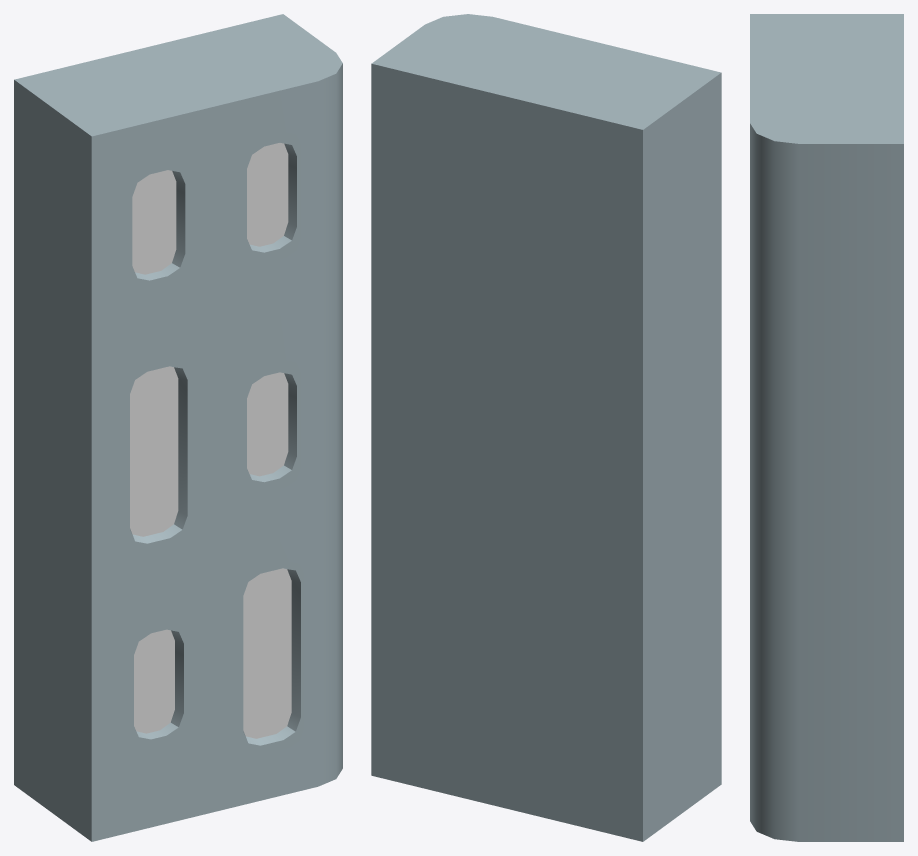
The model's file is BackRight_SmallLight.fbx.
3 views of the same model, side by side, from view 1: azimuth 30°, elevation 25°; view 2: azimuth 150°, elevation 25°; view 3: azimuth 270°, elevation 25° (orthographic). The views are drawn at different scales.
Visible parts, largest first — view 1: BackRight_SmallLight; view 2: BackRight_SmallLight; view 3: BackRight_SmallLight.
Part boxes in pixels (left/top/right/bottom): BackRight_SmallLight: left=14, top=14, right=342, bottom=841; BackRight_SmallLight: left=371, top=14, right=721, bottom=841; BackRight_SmallLight: left=750, top=14, right=903, bottom=841.
Bounding box in the file's own units: 200 × 501 × 100.
